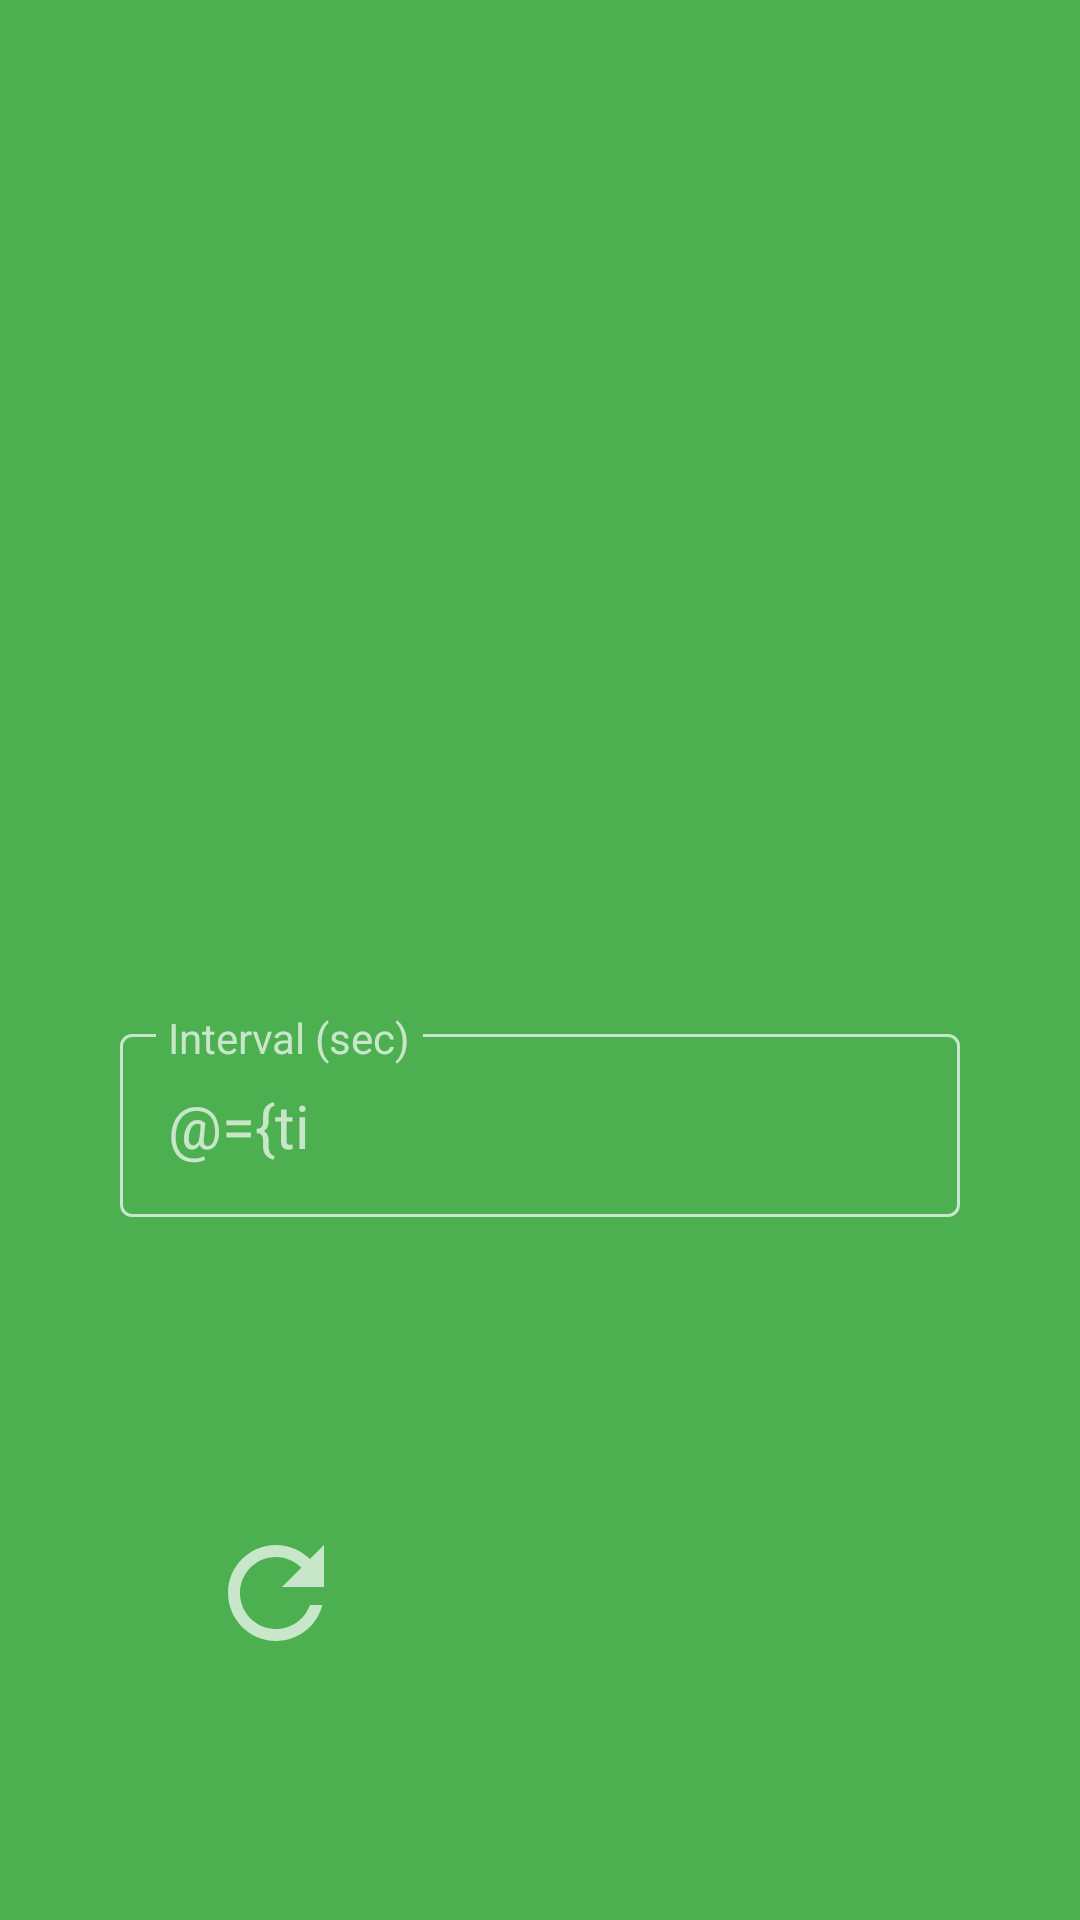

Icon click points for this 1080×1920 phone screenshot, format [x,y]:
Reset timer: [276,1593]
